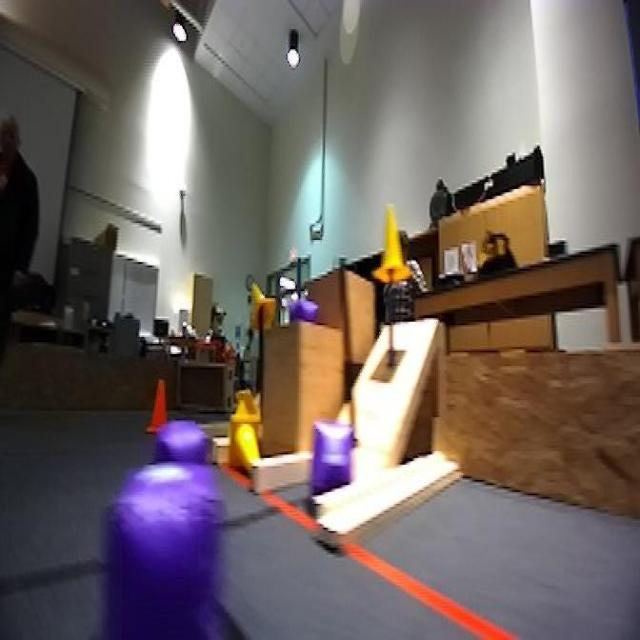frc_cone: (230, 412, 264, 477), (376, 206, 406, 277), (249, 281, 277, 335)
frc_cube: (104, 470, 233, 640), (156, 419, 216, 524), (308, 414, 360, 484), (292, 300, 320, 330)
